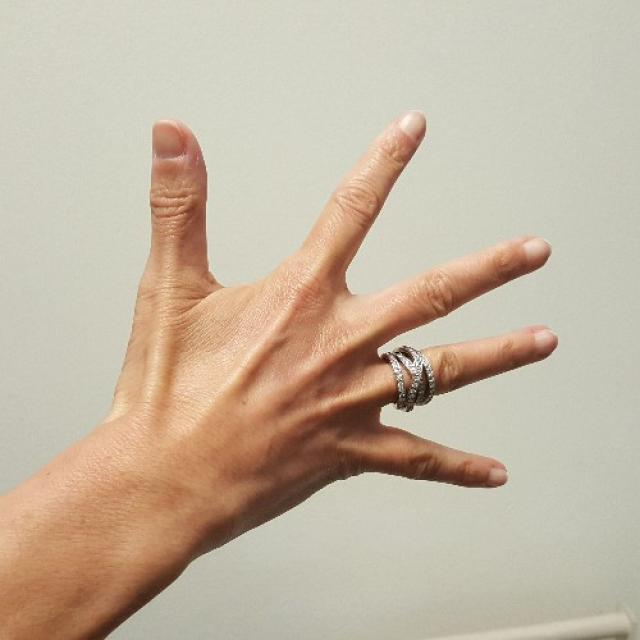paper: (132, 104, 556, 490)
